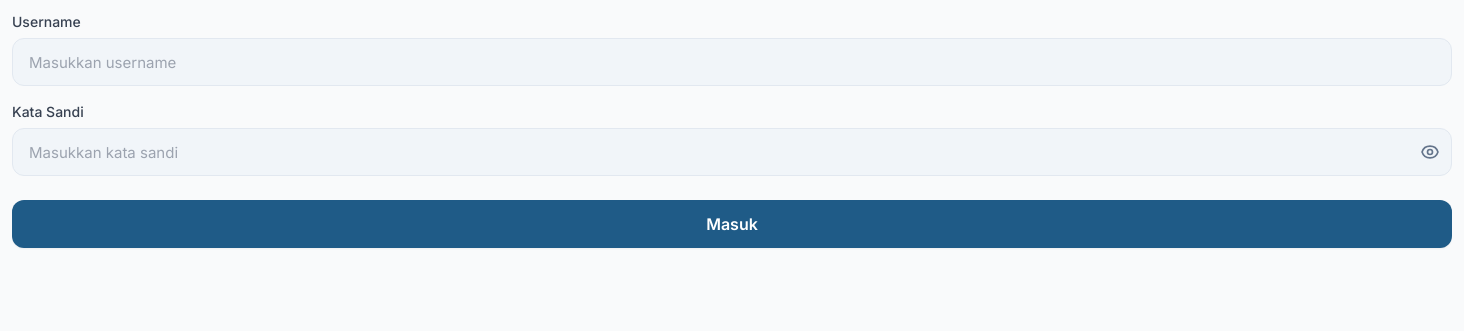
LoginForm rate-limit feedback › shows a dedicated temporary-block message for HTTP 429
In the field labelled "Username": (732, 62) [12,38,1452,86], type "pegawai1"
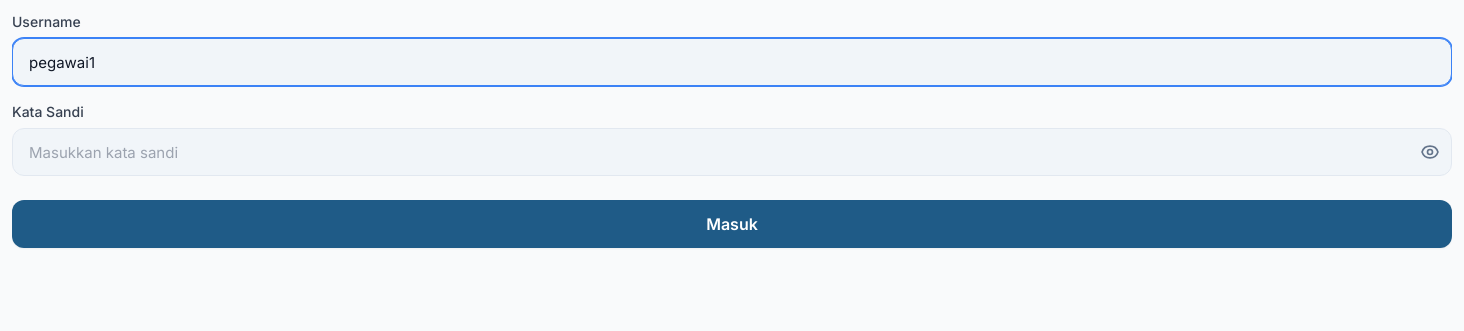
In the password field labelled "Kata Sandi": (732, 152) [12,128,1452,176], type "salah123"
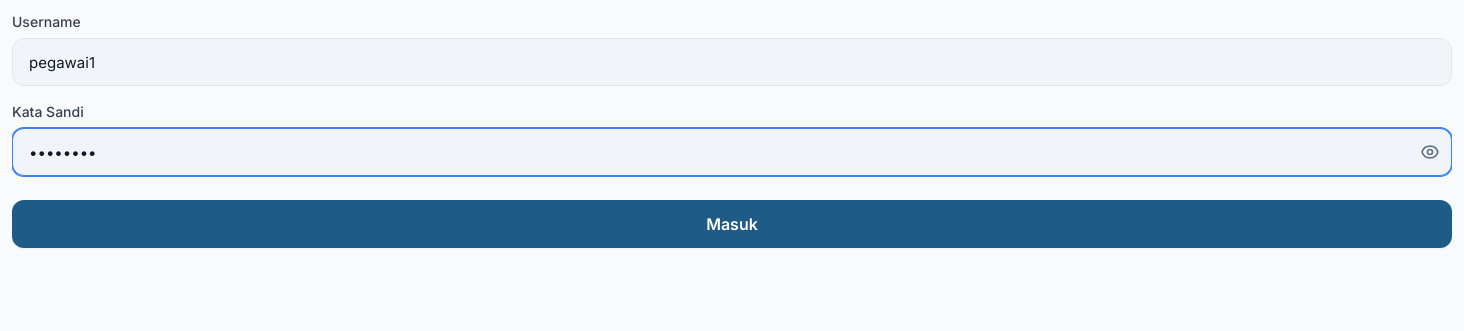
Click the button "Masuk": (732, 224) [12,200,1452,248]
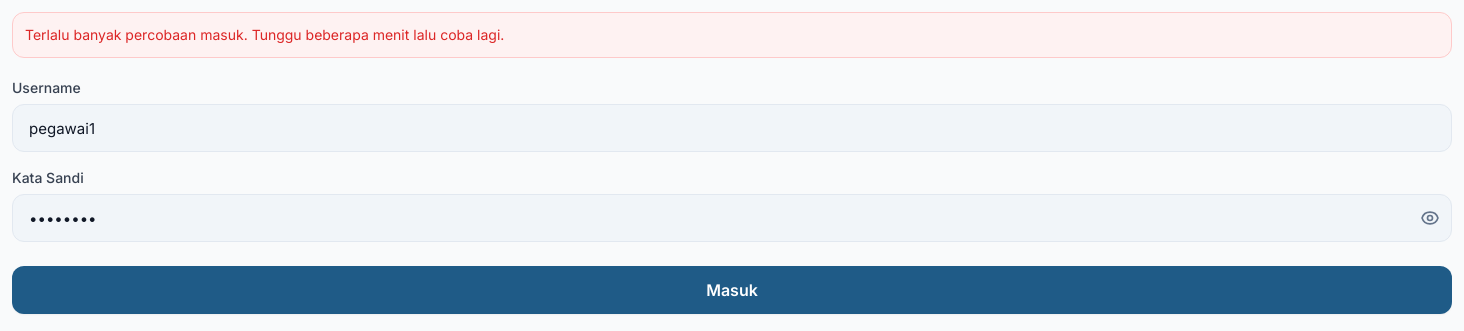
Result: the message reads "Terlalu banyak percobaan masuk. Tunggu beberapa menit lalu coba lagi." at [25,26,504,43]
